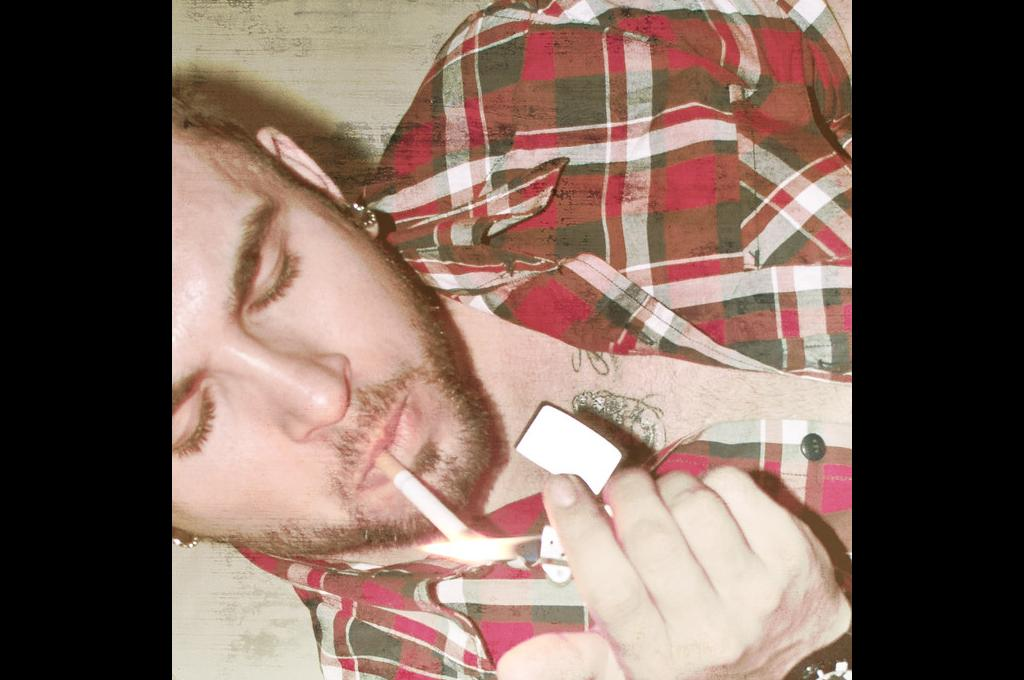Cigarette: (176, 0, 852, 680), (374, 446, 475, 548)
